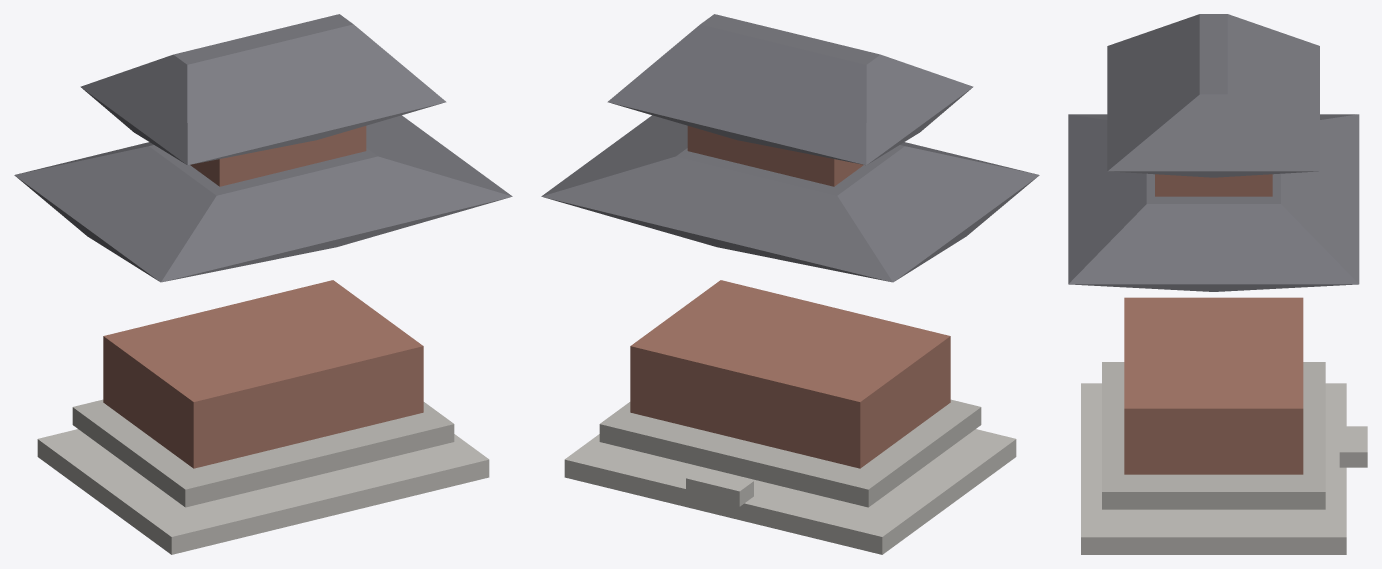
3 views of the same model, side by side, from view 1: azimuth 30°, elevation 25°; view 2: azimuth 150°, elevation 25°; view 3: azimuth 270°, elevation 25° (orthographic).
Parts seen in each view (by area): view 1: part2, part3, part5, part0, part1, part4; view 2: part2, part3, part5, part0, part1, part4, part7; view 3: part3, part2, part5, part0, part1, part4, part7.
Boxes of the visible parts, bbox=[...] form: part2: bbox=[103, 280, 423, 468]; part3: bbox=[14, 115, 512, 282]; part5: bbox=[80, 14, 446, 165]; part0: bbox=[37, 429, 489, 554]; part1: bbox=[72, 399, 454, 507]; part4: bbox=[190, 126, 366, 186]; part2: bbox=[630, 280, 950, 468]; part3: bbox=[541, 115, 1039, 282]; part5: bbox=[607, 14, 973, 165]; part0: bbox=[564, 429, 1016, 554]; part1: bbox=[599, 399, 981, 507]; part4: bbox=[687, 126, 863, 186]; part7: bbox=[686, 468, 753, 506]; part3: bbox=[1068, 114, 1359, 291]; part2: bbox=[1124, 297, 1303, 474]; part5: bbox=[1107, 14, 1319, 177]; part0: bbox=[1081, 383, 1346, 554]; part1: bbox=[1102, 362, 1325, 509]; part4: bbox=[1155, 174, 1272, 196]; part7: bbox=[1339, 426, 1367, 467].
Size of the model in its own units: 6.48 by 7.52 by 4.81.
